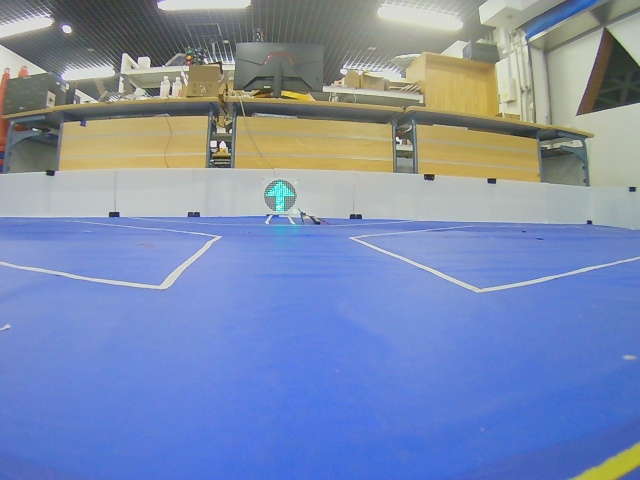straight_green: (264, 179, 297, 213)
